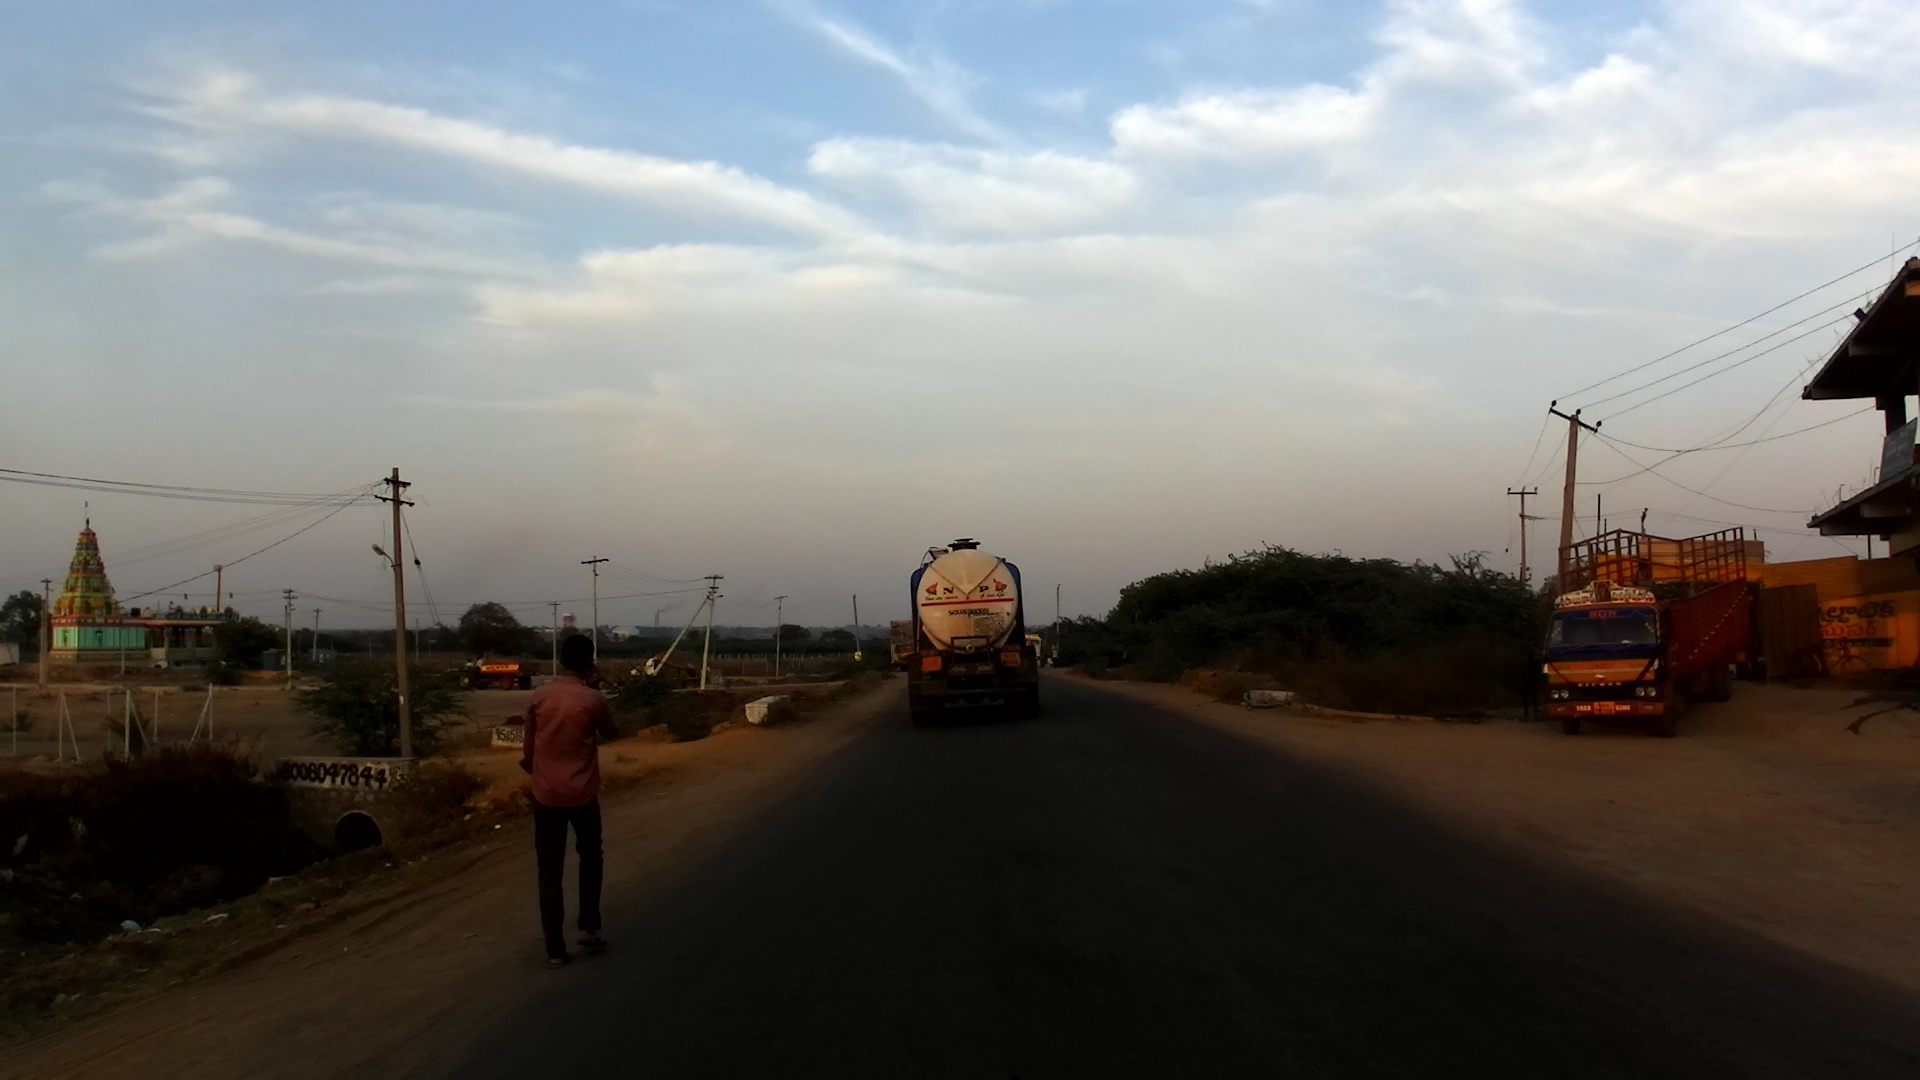person: (520, 628, 618, 966), (1509, 645, 1543, 725)
truck: (1547, 512, 1751, 744), (904, 539, 1038, 729), (459, 657, 534, 698), (884, 618, 925, 680)
